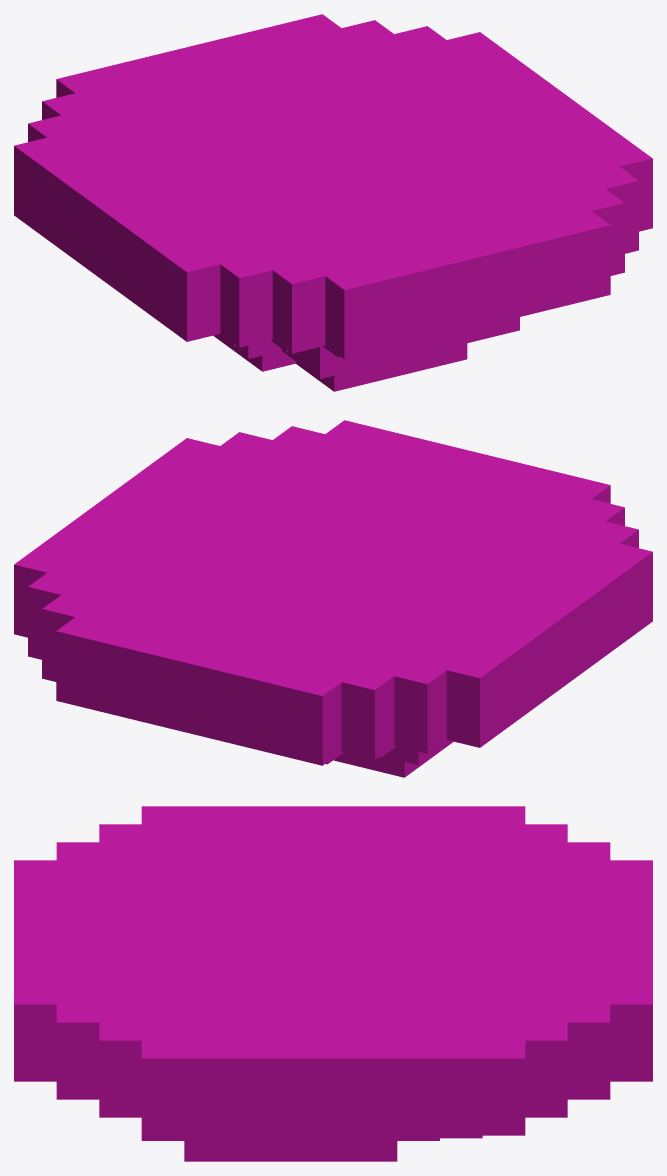
File: Bus-1.obj
The picture shows the model from 3 angles, top to bottom: view 1: azimuth 30°, elevation 25°; view 2: azimuth 150°, elevation 25°; view 3: azimuth 270°, elevation 25°; orthographic projection. The views are drawn at different scales.
Size of the model in its own units: 1.4 by 0.5 by 1.5.
1 material, 1 textured.
